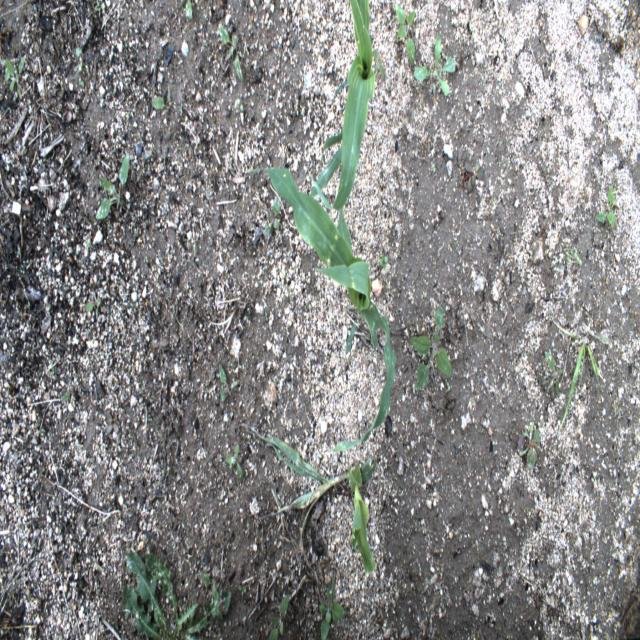crop: (246, 166, 397, 454), (290, 0, 375, 219), (239, 422, 353, 570), (347, 455, 377, 577)
weed: (121, 550, 233, 640), (550, 316, 613, 435), (410, 305, 452, 393), (412, 35, 457, 98), (95, 152, 132, 220), (318, 576, 345, 638), (217, 23, 243, 82), (394, 2, 416, 66), (517, 420, 542, 469), (3, 52, 27, 100), (596, 184, 620, 229), (268, 594, 290, 640), (218, 363, 242, 404), (544, 348, 563, 398), (458, 160, 484, 193), (263, 196, 282, 237), (225, 443, 244, 483), (550, 242, 578, 269), (264, 268, 292, 294), (151, 84, 173, 116), (76, 46, 90, 88), (84, 288, 101, 320), (176, 0, 199, 21), (373, 48, 386, 76), (378, 252, 390, 270), (93, 0, 110, 11), (571, 252, 582, 266), (612, 404, 622, 419), (235, 97, 244, 112), (23, 291, 31, 306), (62, 390, 71, 402), (238, 584, 247, 596), (162, 153, 168, 166), (49, 365, 55, 378), (430, 162, 437, 173), (228, 358, 236, 367), (445, 381, 450, 393), (20, 264, 26, 272), (17, 246, 21, 257), (264, 311, 268, 322), (142, 255, 148, 262), (420, 292, 427, 298), (593, 473, 597, 483), (54, 365, 57, 378), (180, 102, 183, 114), (50, 360, 54, 369), (20, 268, 25, 274), (23, 259, 29, 263)
